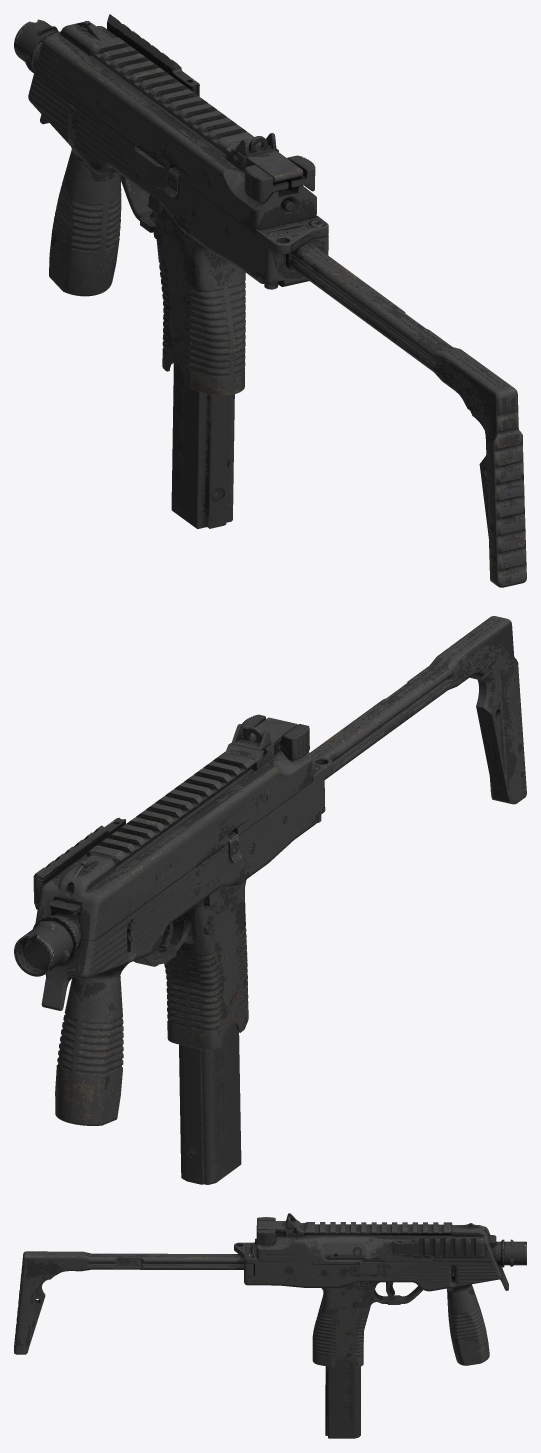
3 views of the same model, one above another, from view 1: azimuth 30°, elevation 25°; view 2: azimuth 150°, elevation 25°; view 3: azimuth 270°, elevation 25° (orthographic). The views are drawn at different scales.
Visible parts, largest first — view 1: v_tmp_R; view 2: v_tmp_R; view 3: v_tmp_R.
Boxes of the visible parts, x1=… form: v_tmp_R: x1=14, y1=14, x2=526, y2=587; v_tmp_R: x1=14, y1=616, x2=526, y2=1184; v_tmp_R: x1=14, y1=1213, x2=526, y2=1438.
Size of the model in its own units: 0.0524 by 0.2653 by 0.5633.
Materials: 1 (1 with a texture image).
